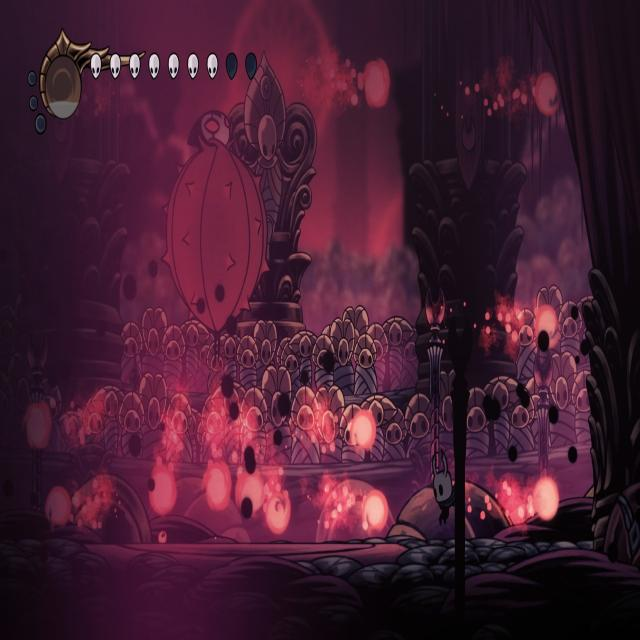Player: (428, 445, 456, 532)
Pufferfish: (158, 108, 272, 368)
Tiny Fireballs: (148, 462, 177, 516), (234, 472, 264, 520), (24, 402, 53, 450), (204, 462, 231, 512), (363, 62, 389, 110), (532, 477, 558, 522), (349, 409, 375, 452), (536, 305, 559, 353), (534, 75, 559, 119), (266, 493, 292, 534), (46, 486, 71, 528), (361, 490, 387, 530)
